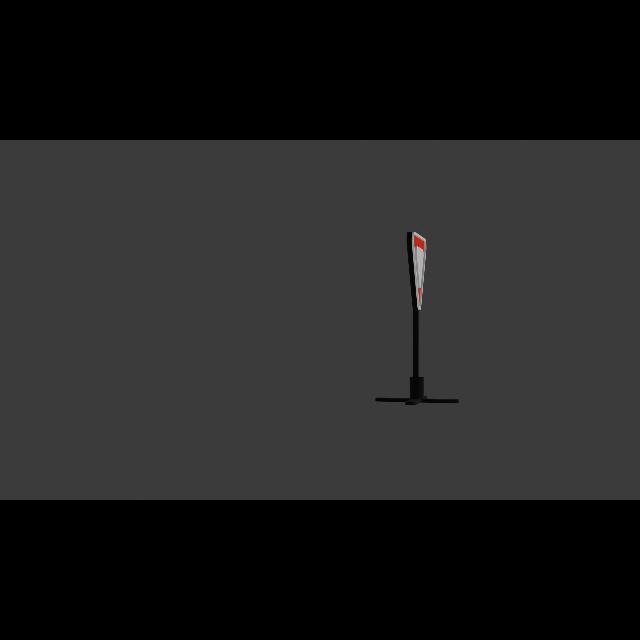sign_yield: (409, 231, 430, 313)
